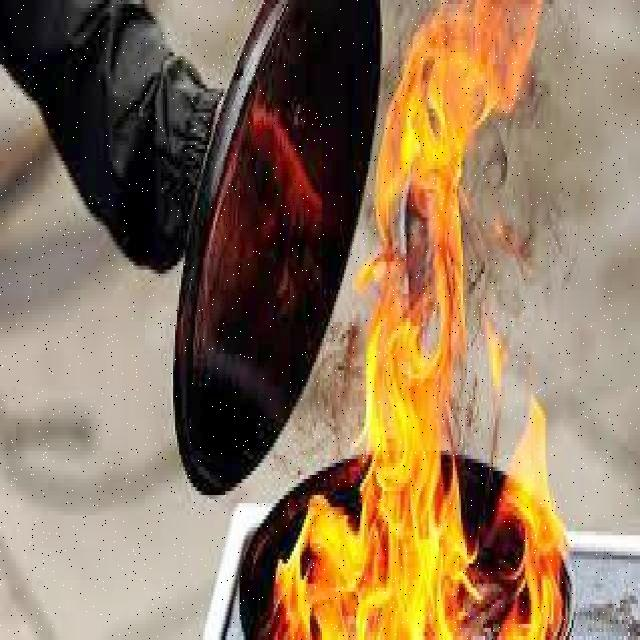fire: (370, 0, 527, 462), (272, 459, 574, 640)
